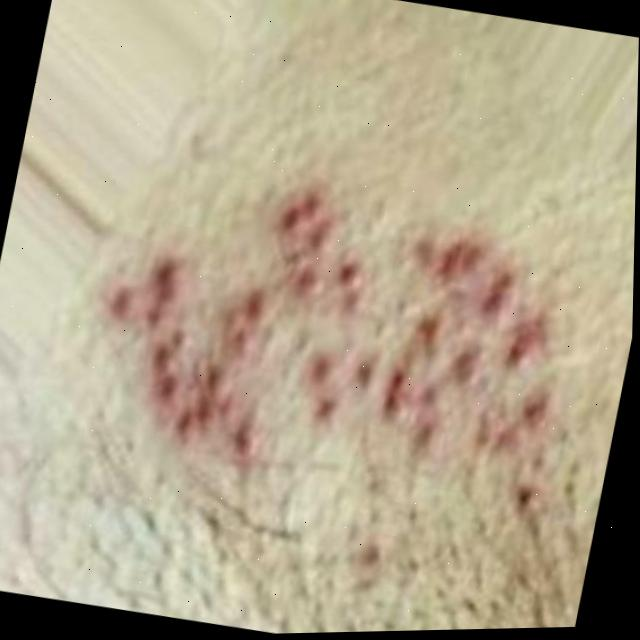Shingles: (87, 154, 582, 526)
